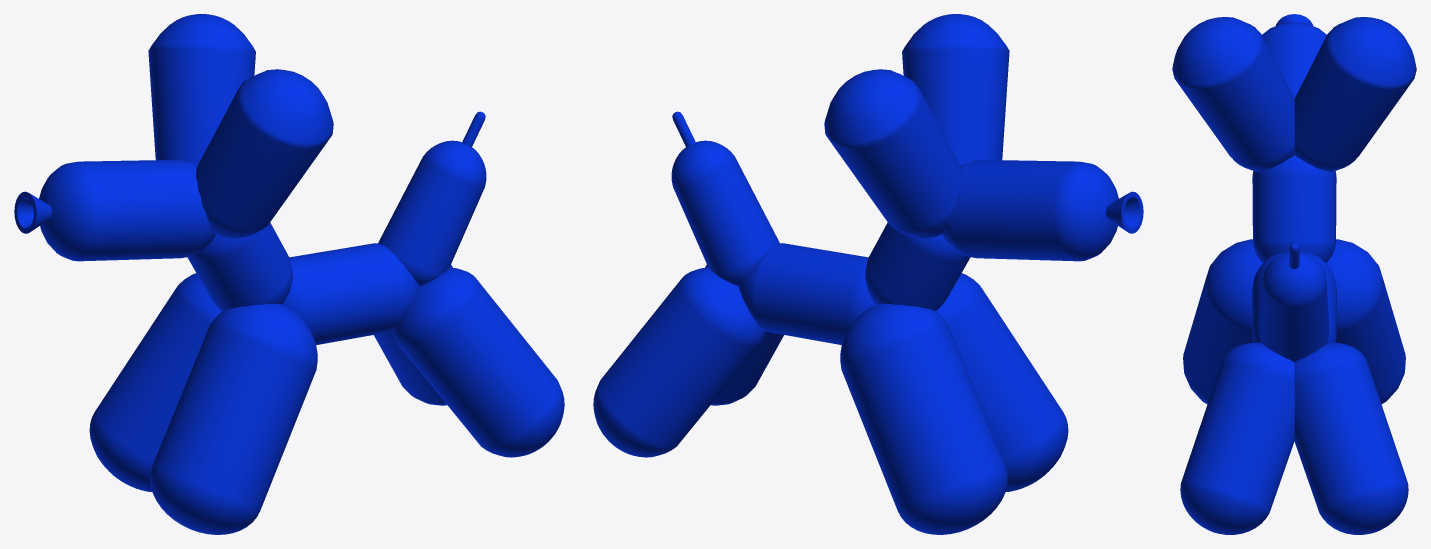
Rendered from BLUE DOG.fbx.
The picture shows the model from 3 angles, left to right: view 1: azimuth 30°, elevation 25°; view 2: azimuth 150°, elevation 25°; view 3: azimuth 270°, elevation 25°; orthographic projection. The views are drawn at different scales.
Parts seen in each view (by area): view 1: polySurface12; view 2: polySurface12; view 3: polySurface12.
Boxes of the visible parts, bbox=[...] form: polySurface12: bbox=[14, 14, 564, 534]; polySurface12: bbox=[593, 14, 1143, 534]; polySurface12: bbox=[1172, 14, 1416, 534].
Bounding box in the file's own units: 9.35 × 8.01 × 4.3.
